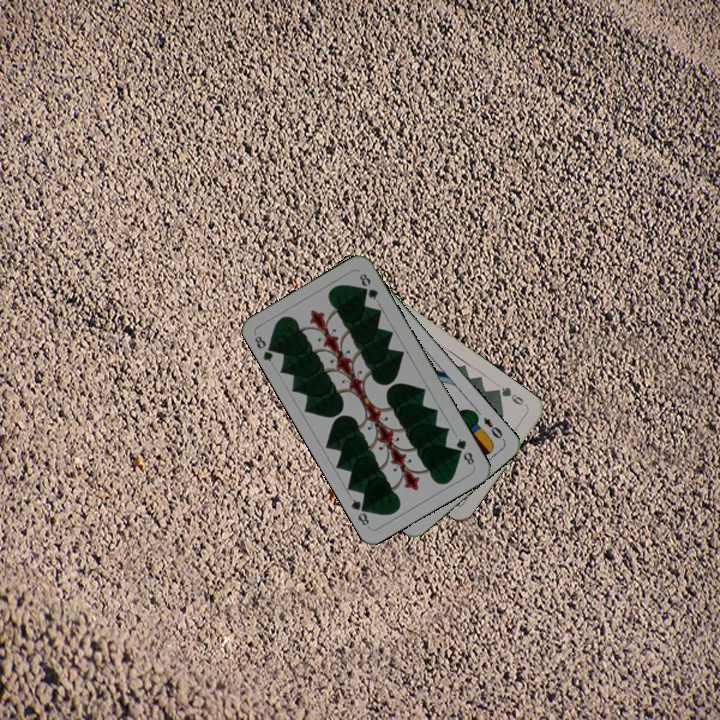EO: (479, 413, 507, 443)
G8: (250, 332, 279, 365), (452, 434, 477, 468)
G9: (493, 383, 531, 410)
